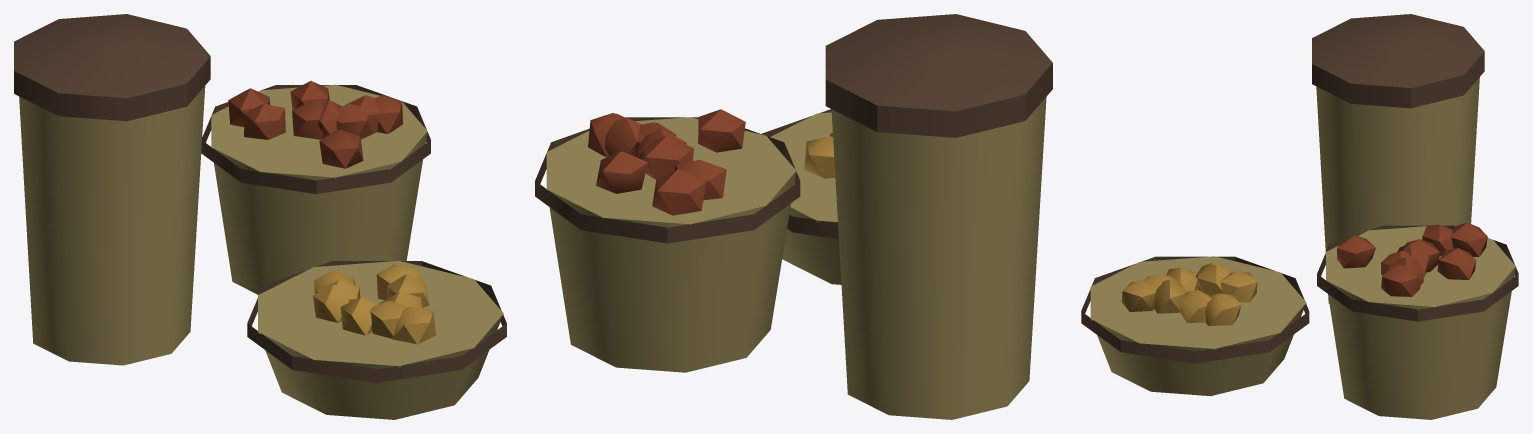
File: Baskets.fbx
3 renders of one model, left to right at view 1: azimuth 30°, elevation 25°; view 2: azimuth 150°, elevation 25°; view 3: azimuth 270°, elevation 25°, orthographic. The views are drawn at different scales.
Parts seen in each view (by area): view 1: Baskets; view 2: Baskets; view 3: Baskets.
Boxes of the visible parts, x1,y1,x2,y2 form: Baskets: (14,14,506,419); Baskets: (535,14,1052,419); Baskets: (1081,14,1518,419).
Bounding box in the file's own units: 0.927 × 0.64 × 0.9826.
